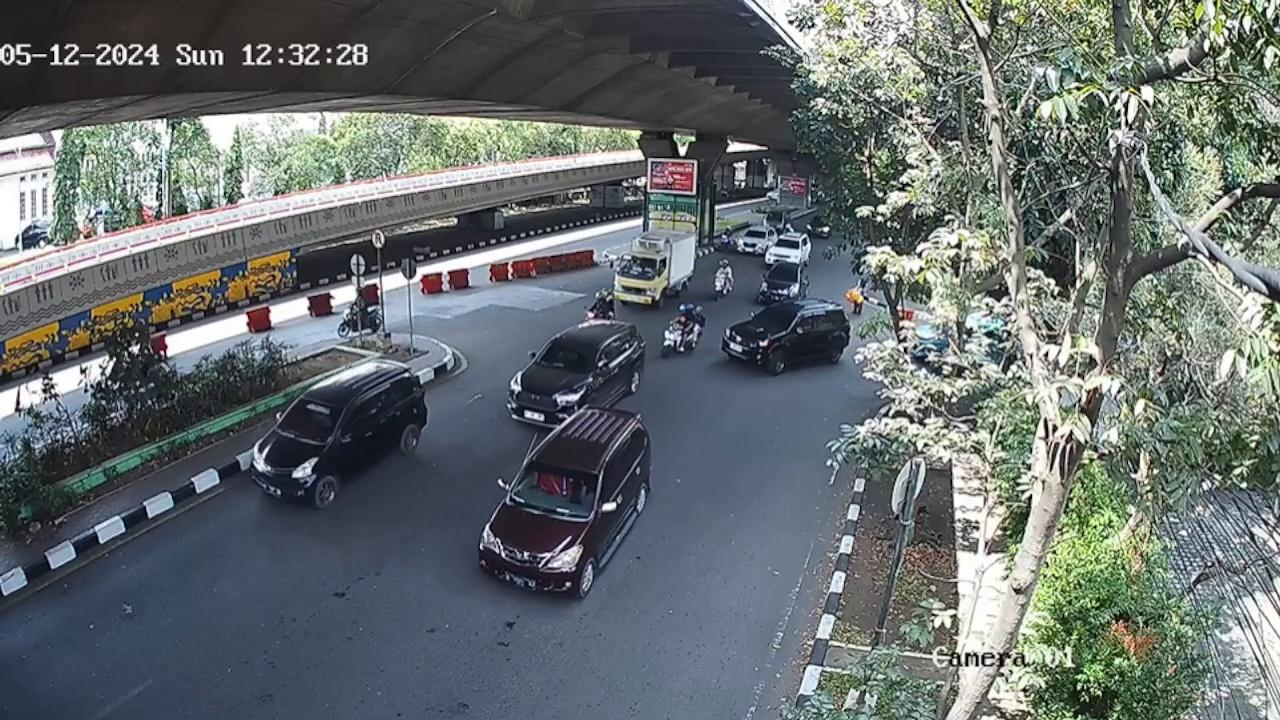pakai: (538, 467, 571, 503)
windshield: (511, 461, 598, 523), (271, 398, 344, 444), (536, 336, 600, 375)
